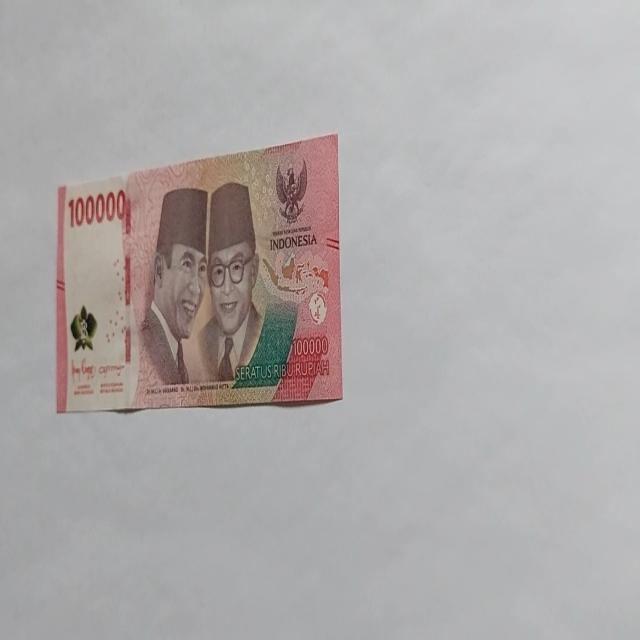seratus ribu rupiah: (55, 132, 342, 414)
